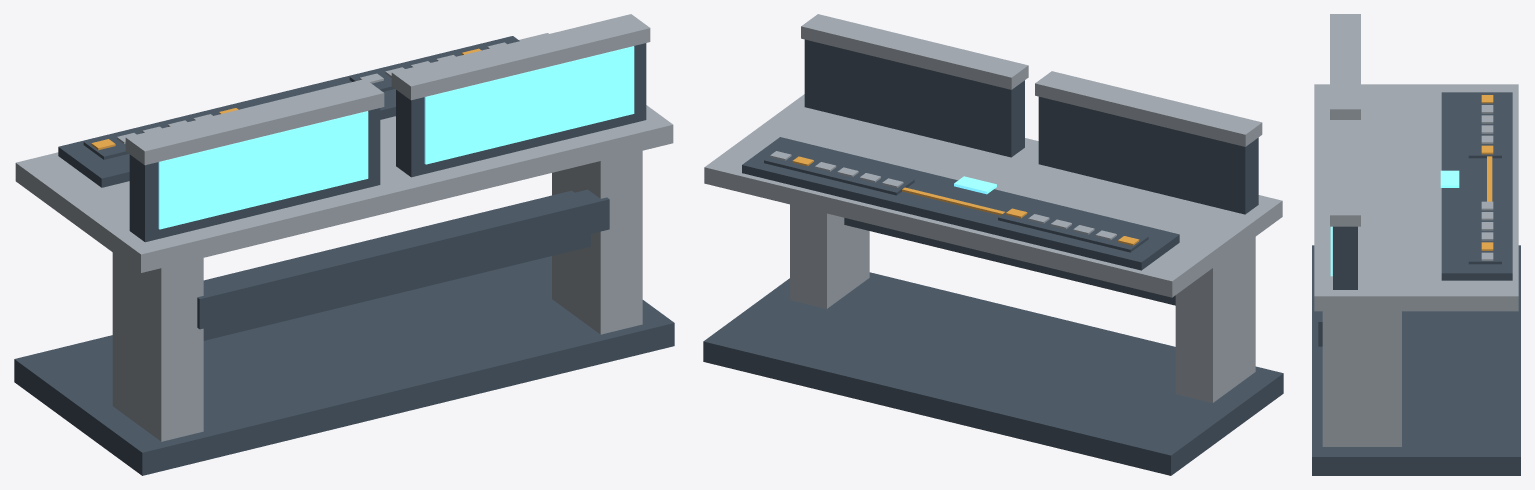
The picture shows the model from 3 angles, left to right: view 1: azimuth 30°, elevation 25°; view 2: azimuth 150°, elevation 25°; view 3: azimuth 270°, elevation 25°; orthographic projection. The views are drawn at different scales.
Visible parts, largest first — view 1: Foundation, DeskSurface, CableBar, Stand_Left, ScreenEmit_L, ScreenEmit_R, Stand_Right, TopRail_L, TopRail_R, Underframe, ScreenHouse_L, ScreenHouse_R (+3 smaller); view 2: Foundation, DeskSurface, ScreenHouse_R, ScreenHouse_L, ControlDeck, Stand_Left, Stand_Right, TopRail_L, TopRail_R, Underframe, Keyboard_L, Keyboard_R; view 3: DeskSurface, Foundation, Stand_Right, ControlDeck, TopRail_R, TopRail_L, Keyboard_L, Keyboard_R, ScreenHouse_R, StatusLED_Center, WarningStrip.
Part boxes in pixels (box(x1,y1,x2,y2)): Foundation: box(14, 256, 674, 475); DeskSurface: box(15, 33, 673, 272); CableBar: box(197, 189, 609, 329); Stand_Left: box(112, 252, 203, 441); ScreenEmit_L: box(158, 111, 368, 229); ScreenEmit_R: box(424, 46, 634, 164); Stand_Right: box(552, 151, 642, 334); TopRail_L: box(125, 79, 384, 165); TopRail_R: box(391, 14, 650, 100); Underframe: box(203, 190, 590, 340); ScreenHouse_L: box(129, 108, 380, 242); ScreenHouse_R: box(396, 43, 646, 177); Foundation: box(703, 272, 1283, 475); DeskSurface: box(704, 94, 1282, 297); ScreenHouse_R: box(804, 39, 1024, 157); ScreenHouse_L: box(1038, 96, 1258, 214); ControlDeck: box(742, 137, 1179, 270); Stand_Left: box(1175, 237, 1255, 402); Stand_Right: box(790, 204, 869, 308); TopRail_L: box(1035, 71, 1262, 146); TopRail_R: box(801, 14, 1028, 89); Underframe: box(844, 218, 1175, 305); Keyboard_L: box(998, 204, 1148, 252); Keyboard_R: box(764, 147, 914, 195); DeskSurface: box(1314, 84, 1518, 311); Foundation: box(1312, 245, 1520, 475); Stand_Right: box(1322, 311, 1401, 446); ControlDeck: box(1441, 92, 1512, 280); TopRail_R: box(1330, 120, 1360, 226); TopRail_L: box(1330, 14, 1360, 119); Keyboard_L: box(1468, 95, 1501, 158); Keyboard_R: box(1468, 201, 1501, 264); ScreenHouse_R: box(1333, 226, 1357, 289); StatusLED_Center: box(1440, 170, 1459, 187); WarningStrip: box(1487, 156, 1492, 201).
Size of the model in its own units: 2.4 by 1.35 by 1.
